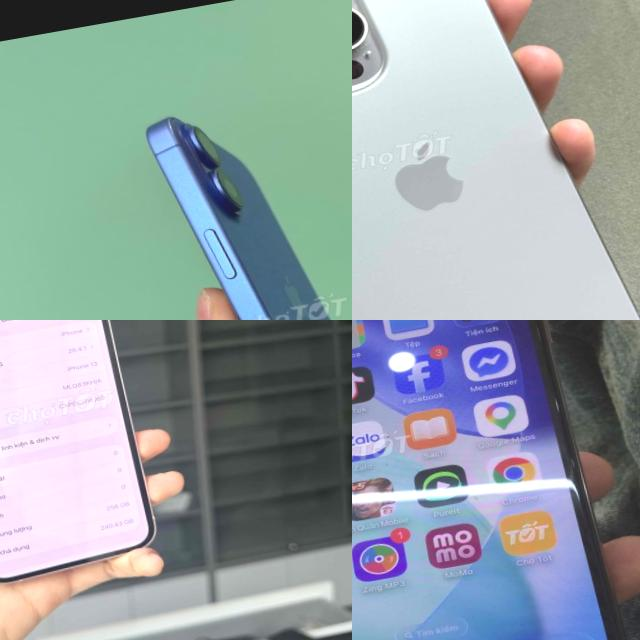gen_11: (352, 320, 622, 640)
gen_12_13: (0, 320, 162, 585)
gen_15: (352, 0, 640, 320)
gen_16: (146, 117, 338, 320)
